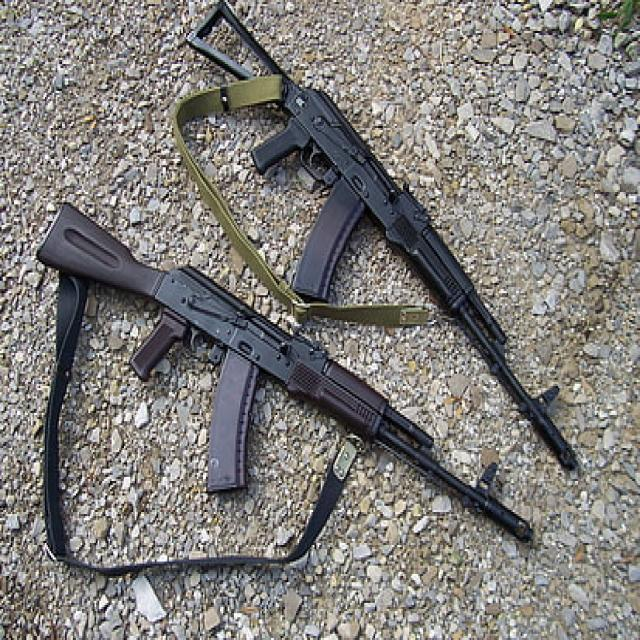weapon: (185, 0, 580, 472), (34, 198, 537, 545)
